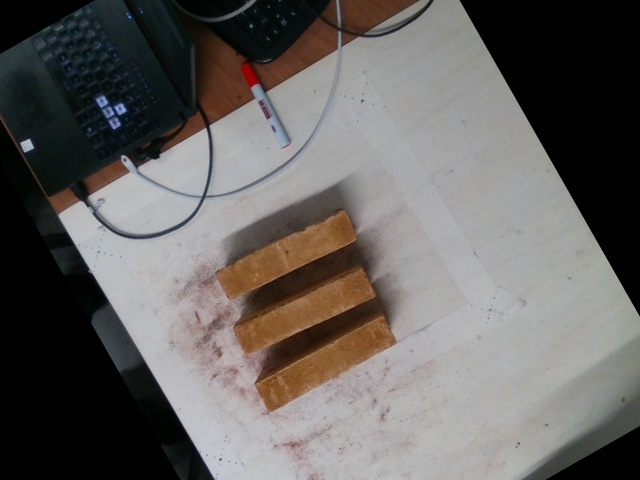brick-side: (257, 315, 394, 409), (216, 211, 354, 298), (236, 271, 375, 351)
